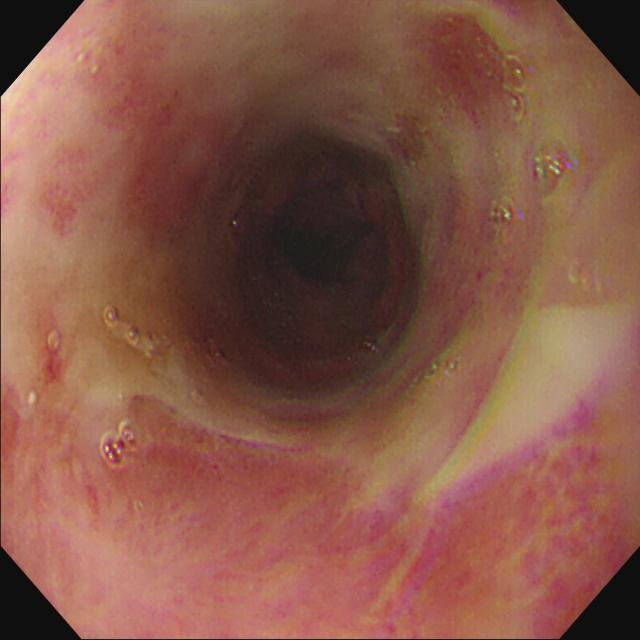A: (123, 385, 356, 538), (477, 435, 628, 632), (106, 26, 206, 235), (419, 5, 508, 132), (42, 171, 90, 249), (37, 312, 67, 389)
T: (534, 136, 573, 197), (102, 420, 142, 468), (505, 56, 527, 126), (486, 194, 517, 232)
